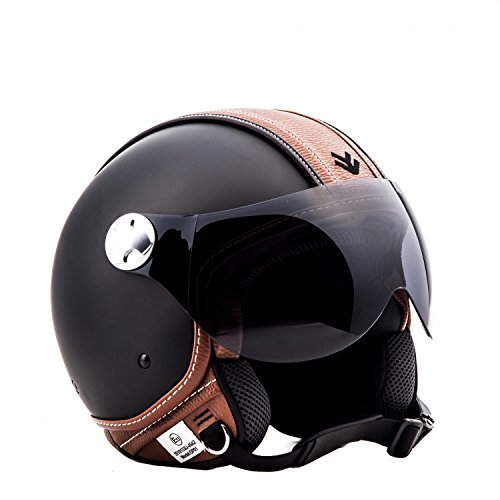with_helmet: (45, 105, 440, 482)
